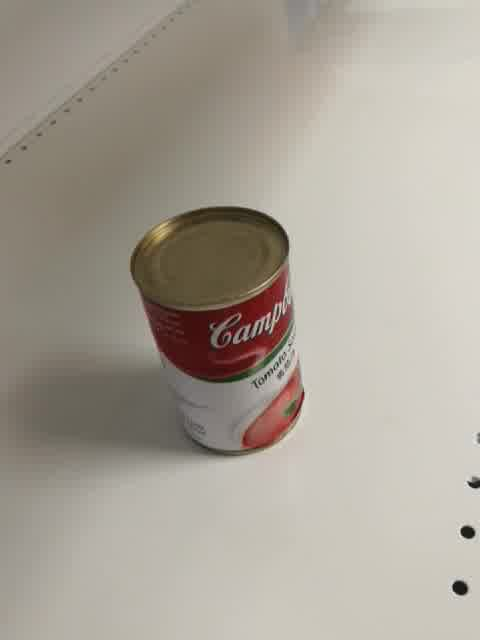tomatosoup: (128, 204, 307, 456)
